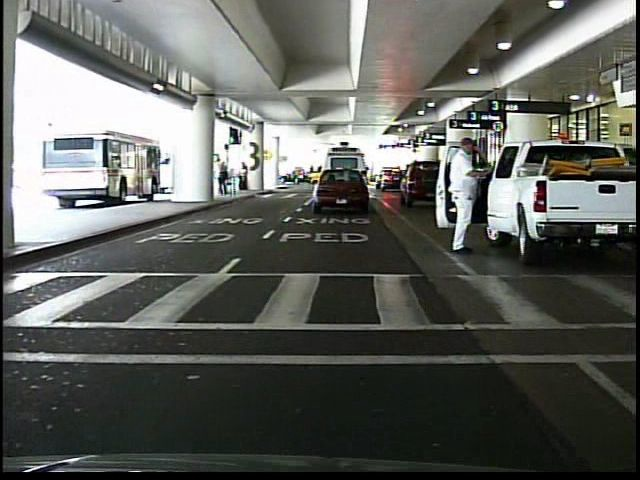person: (444, 132, 481, 257), (216, 155, 230, 200), (235, 163, 251, 196)
